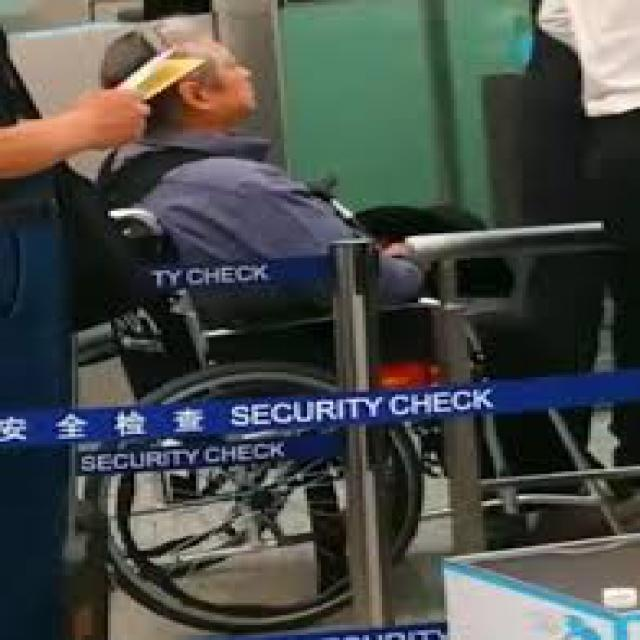wheelchairs: (52, 201, 519, 630)
